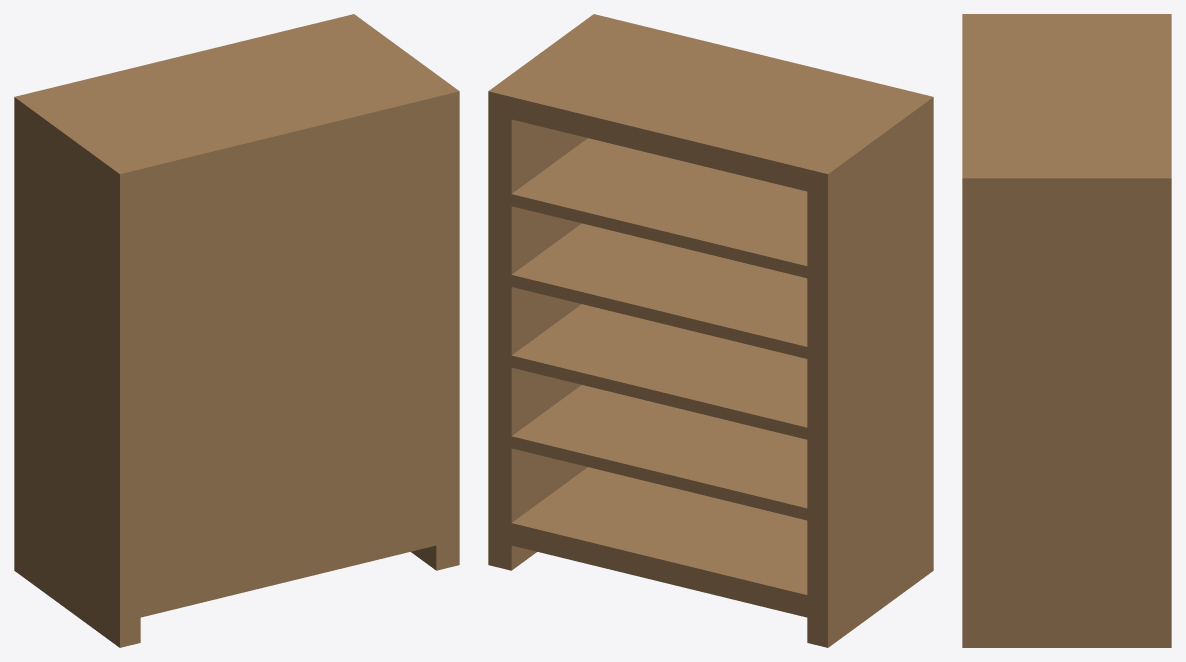
The model's file is cabinet.fbx.
3 views of the same model, side by side, from view 1: azimuth 30°, elevation 25°; view 2: azimuth 150°, elevation 25°; view 3: azimuth 270°, elevation 25° (orthographic).
Parts seen in each view (by area): view 1: pCube1; view 2: pCube1; view 3: pCube1.
Boxes of the visible parts, bbox=[...] form: pCube1: bbox=[14, 14, 459, 647]; pCube1: bbox=[488, 14, 933, 647]; pCube1: bbox=[962, 14, 1171, 647].
Bounding box in the file's own units: 100 × 133 × 53.82.
